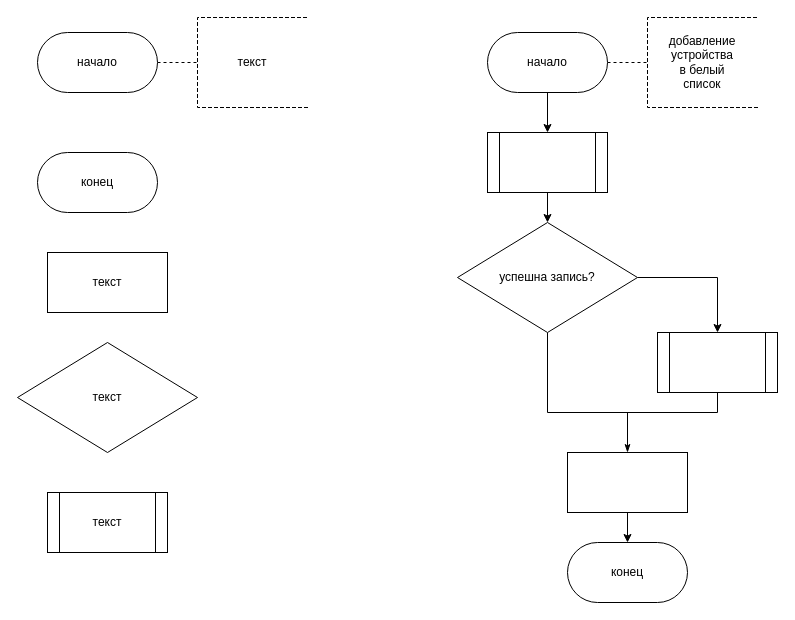
The diagram is 795 pixels wide and 620 high, and some of its shapes have lost their labels. The shapes that lost their labels are listed below. From the top down, each one's box as (x1, y1, x2, y2) in pixels, then its label:
(486, 132, 608, 192): запись в бд
(656, 332, 778, 392): запись в память демона
(566, 452, 688, 512): возврат кода завершения или объекта устройства
